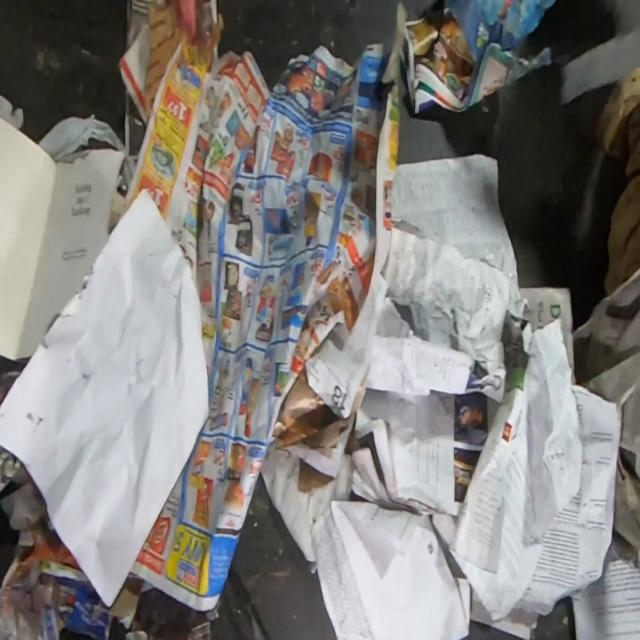cardboard: (0, 518, 145, 639), (596, 66, 640, 161)
